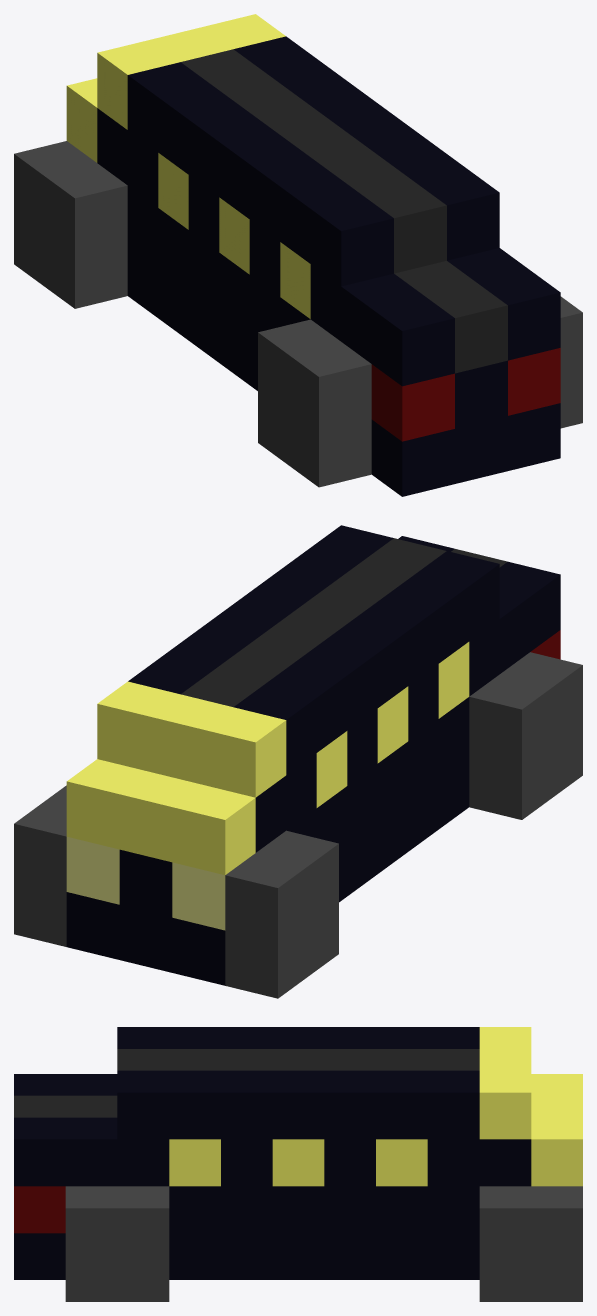
File: voxcar-4.gltf
3 views of the same model, one above another, from view 1: azimuth 30°, elevation 25°; view 2: azimuth 150°, elevation 25°; view 3: azimuth 270°, elevation 25° (orthographic). The views are drawn at different scales.
Visible parts, largest first — view 1: Node; view 2: Node; view 3: Node.
Boxes of the visible parts, <box> form: Node: <box>14,14,582,496</box>; Node: <box>14,525,582,998</box>; Node: <box>14,1027,582,1301</box>.
Bounding box in the file's own units: 0.5 × 0.4 × 1.1.
1 material, 1 textured.
